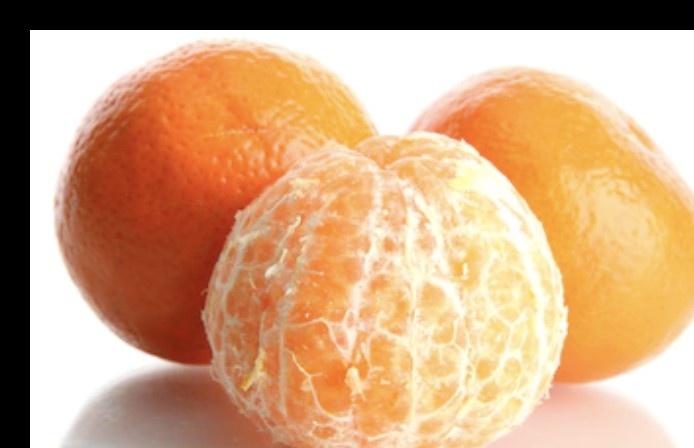fresh_orange: (61, 38, 388, 371), (395, 65, 694, 389)
